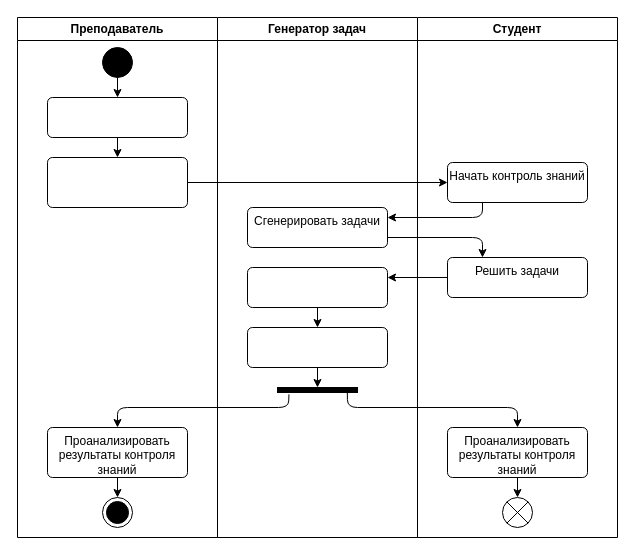
Some shapes in this 635 by 555 pixel diagram are drawn without their labels. The centre of each missing label's shape, as x and y in pixels:
Инициировать проведение контроля знаний: the point at 117,182
Подвести итоги контроля знаний: the point at 317,347
Проверить задачи: the point at 317,287
Провести лекцию: the point at 117,117
